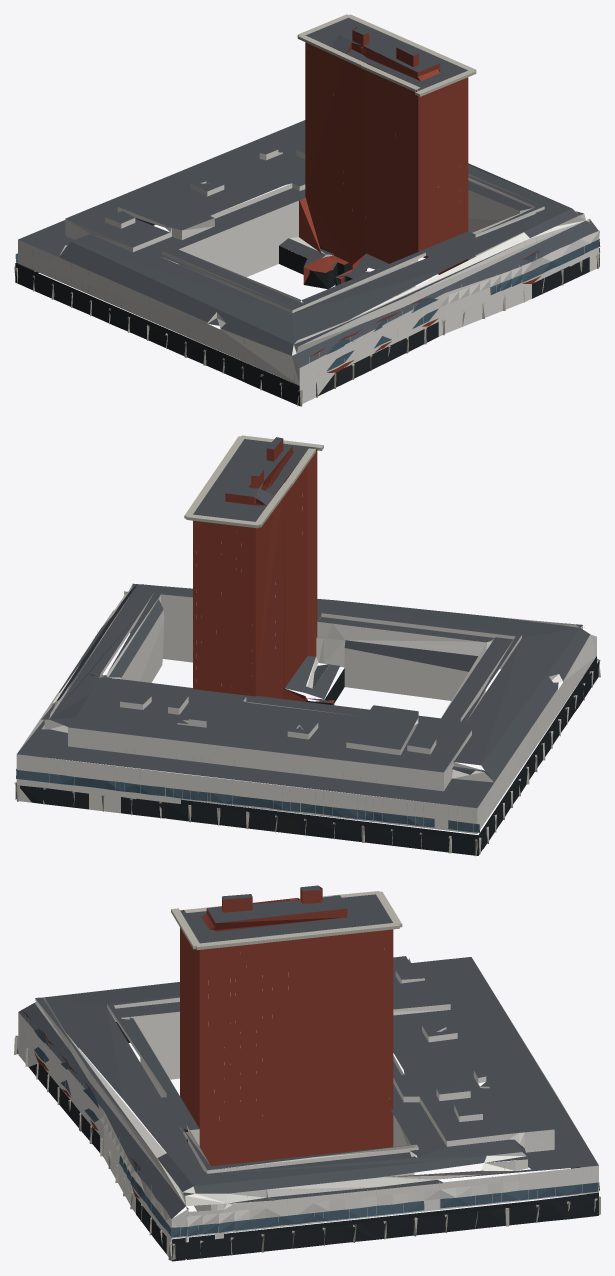
The model's file is de-nederlandsche-bank.lod1.glb.
The picture shows the model from 3 angles, top to bottom: view 1: azimuth 30°, elevation 25°; view 2: azimuth 150°, elevation 25°; view 3: azimuth 270°, elevation 25°; orthographic projection. The views are drawn at different scales.
Parts seen in each view (by area): view 1: de-nederlandsche-bank; view 2: de-nederlandsche-bank; view 3: de-nederlandsche-bank.
Part boxes in pixels (left/top/right/bottom): de-nederlandsche-bank: left=14, top=14, right=600, bottom=406; de-nederlandsche-bank: left=14, top=435, right=600, bottom=856; de-nederlandsche-bank: left=14, top=885, right=600, bottom=1261.
Size of the model in its own units: 145 by 71.74 by 140.
